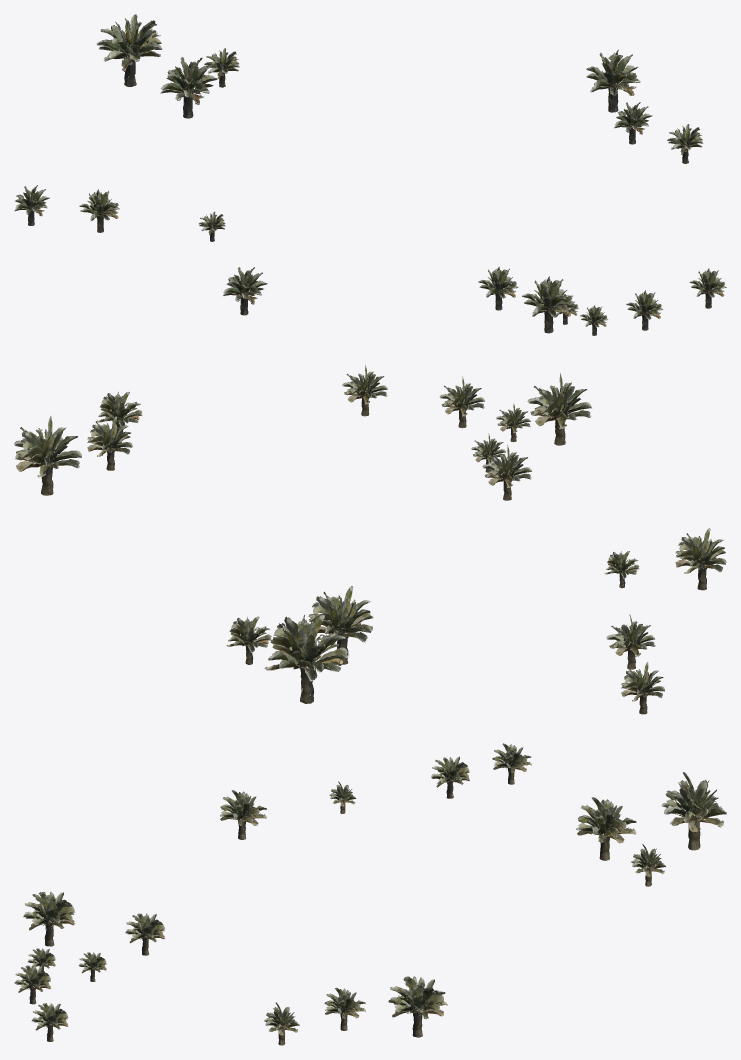
The model's file is Palmera11.glb.
The picture shows the model from 3 angles, top to bottom: view 1: azimuth 30°, elevation 25°; view 2: azimuth 150°, elevation 25°; view 3: azimuth 270°, elevation 25°; orthographic projection. The views are drawn at different scales.
Parts seen in each view (by area): view 1: temp_mesh.ply.769; view 2: temp_mesh.ply.769; view 3: temp_mesh.ply.769.
Part boxes in pixels (box(x1,y1,x2,y2)): temp_mesh.ply.769: box(14, 14, 726, 335); temp_mesh.ply.769: box(14, 365, 726, 714); temp_mesh.ply.769: box(14, 743, 726, 1045).
Bounding box in the file's own units: 105 × 22.4 × 109.
Materials: 1 (1 with a texture image).
